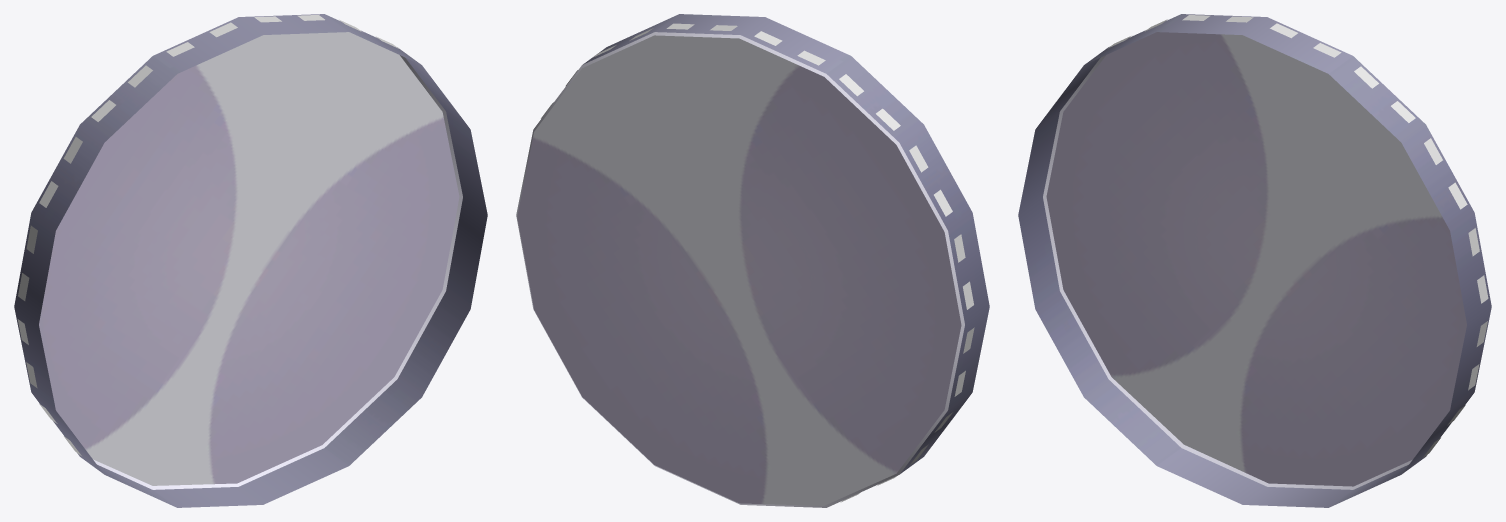
File: Stage.fbx
3 renders of one model, left to right at view 1: azimuth 30°, elevation 25°; view 2: azimuth 150°, elevation 25°; view 3: azimuth 330°, elevation 25°, orthographic.
Visible parts, largest first — view 1: Stage, StageLights; view 2: Stage, StageLights; view 3: Stage, StageLights.
Part boxes in pixels (left/top/right/bottom): Stage: left=14, top=14, right=487, bottom=507; StageLights: left=17, top=15, right=398, bottom=455; Stage: left=516, top=14, right=989, bottom=507; StageLights: left=541, top=23, right=974, bottom=502; Stage: left=1018, top=14, right=1491, bottom=507; StageLights: left=1108, top=15, right=1488, bottom=457.
Size of the model in its own units: 354 by 354 by 35.42.
